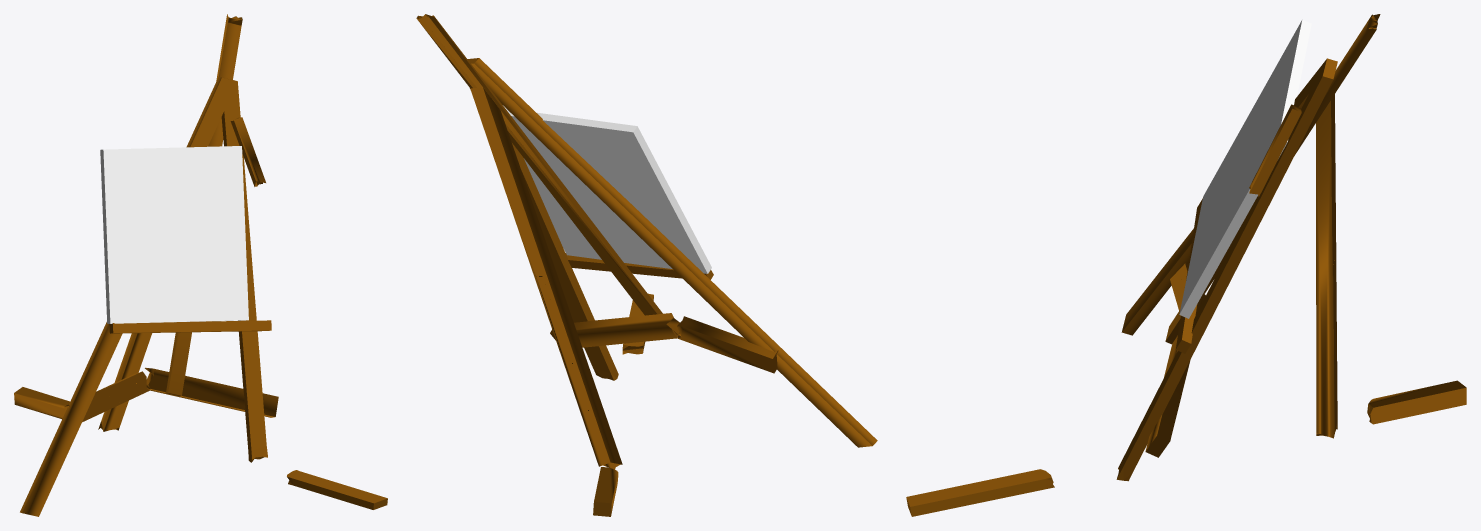
The model's file is stm_env_Broken_Easel-001.fbx.
The picture shows the model from 3 angles, left to right: view 1: azimuth 30°, elevation 25°; view 2: azimuth 150°, elevation 25°; view 3: azimuth 270°, elevation 25°; orthographic projection. The views are drawn at different scales.
Visible parts, largest first — view 1: Canvas_1, Cube, Cube_1, Cube_2, Cube_3, Cube_5, Cube_1_2, Cube_4, Cube_4_2, Cube_6; view 2: Canvas_1, Cube, Cube_4, Cube_3, Cube_2, Cube_1, Cube_5, Cube_4_2; view 3: Canvas_1, Cube_4, Cube_1, Cube_1_2, Cube_4_2, Cube, Cube_2, Cube_3, Cube_6, Cube_5.
Part boxes in pixels (x1=…): Canvas_1: x1=100, y1=146, x2=248, y2=323; Cube: x1=20, y1=77, x2=237, y2=516; Cube_1: x1=221, y1=81, x2=267, y2=462; Cube_2: x1=64, y1=367, x2=278, y2=421; Cube_3: x1=166, y1=14, x2=242, y2=396; Cube_5: x1=109, y1=320, x2=271, y2=333; Cube_1_2: x1=287, y1=470, x2=387, y2=509; Cube_4: x1=98, y1=333, x2=152, y2=431; Cube_4_2: x1=14, y1=387, x2=69, y2=418; Cube_6: x1=230, y1=117, x2=265, y2=186; Canvas_1: x1=505, y1=108, x2=711, y2=273; Cube: x1=467, y1=58, x2=877, y2=447; Cube_4: x1=470, y1=87, x2=622, y2=469; Cube_3: x1=416, y1=14, x2=662, y2=315; Cube_2: x1=550, y1=313, x2=778, y2=373; Cube_1: x1=470, y1=88, x2=618, y2=380; Cube_5: x1=565, y1=253, x2=713, y2=279; Cube_4_2: x1=593, y1=467, x2=618, y2=516; Canvas_1: x1=1179, y1=19, x2=1311, y2=318; Cube_4: x1=1316, y1=94, x2=1337, y2=438; Cube_1: x1=1116, y1=76, x2=1333, y2=481; Cube_1_2: x1=906, y1=469, x2=1054, y2=516; Cube_4_2: x1=1367, y1=380, x2=1466, y2=424; Cube: x1=1121, y1=58, x2=1337, y2=335; Cube_2: x1=1145, y1=263, x2=1205, y2=457; Cube_3: x1=1165, y1=14, x2=1380, y2=344; Cube_6: x1=1249, y1=104, x2=1301, y2=196; Cube_5: x1=1176, y1=198, x2=1202, y2=353.
Bounding box in the file's own units: 395 × 453 × 448.
